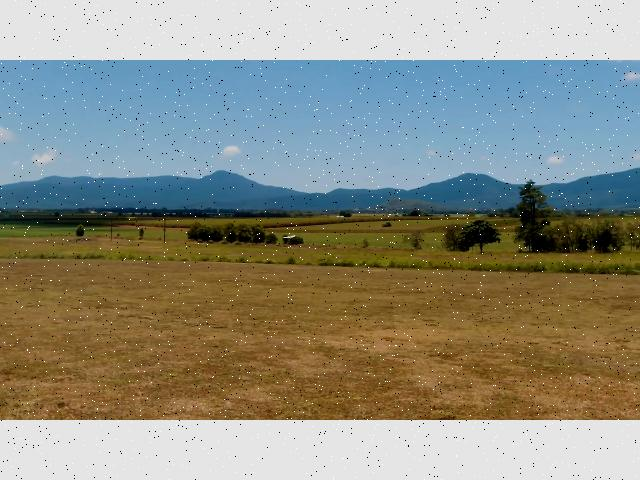Anti-Drone: (280, 229, 298, 239)
